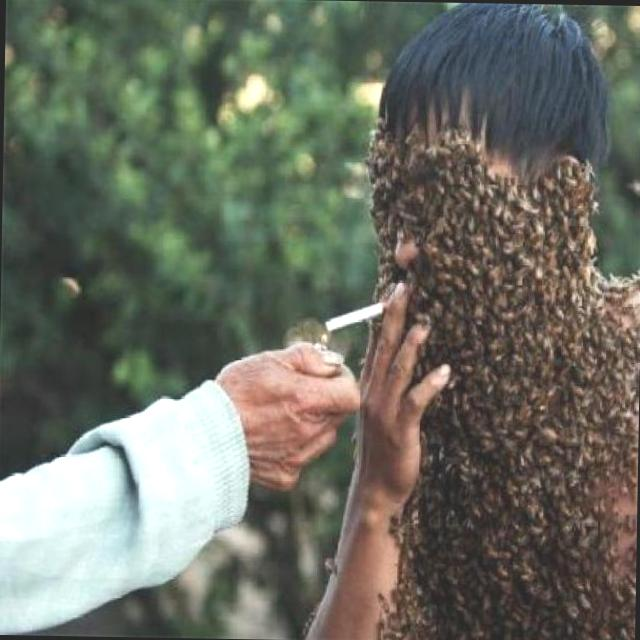cigarette: (322, 294, 391, 338)
